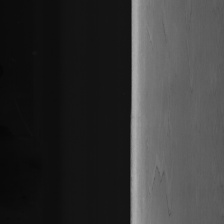silk_spot: (143, 0, 197, 215)
